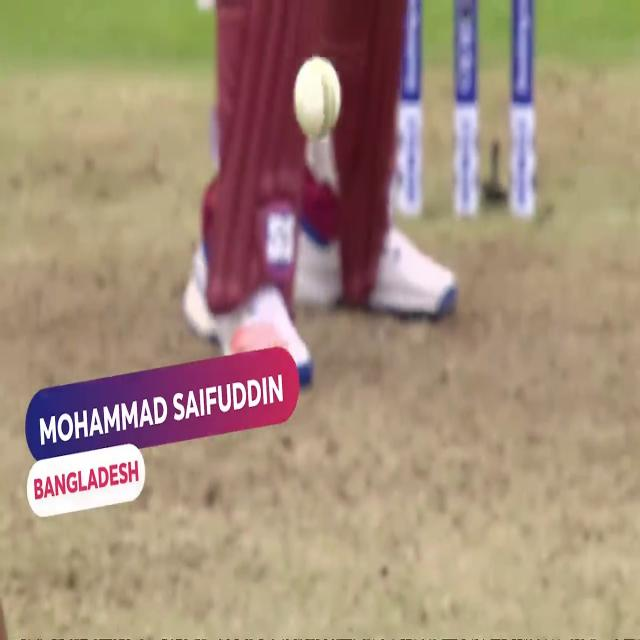ball: (289, 45, 343, 143)
